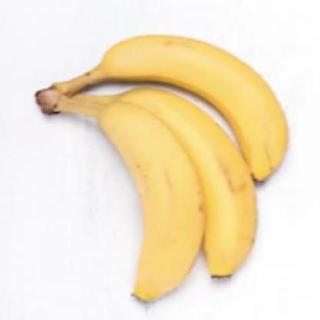banana: (100, 32, 294, 184), (111, 86, 262, 281), (96, 100, 208, 304)
